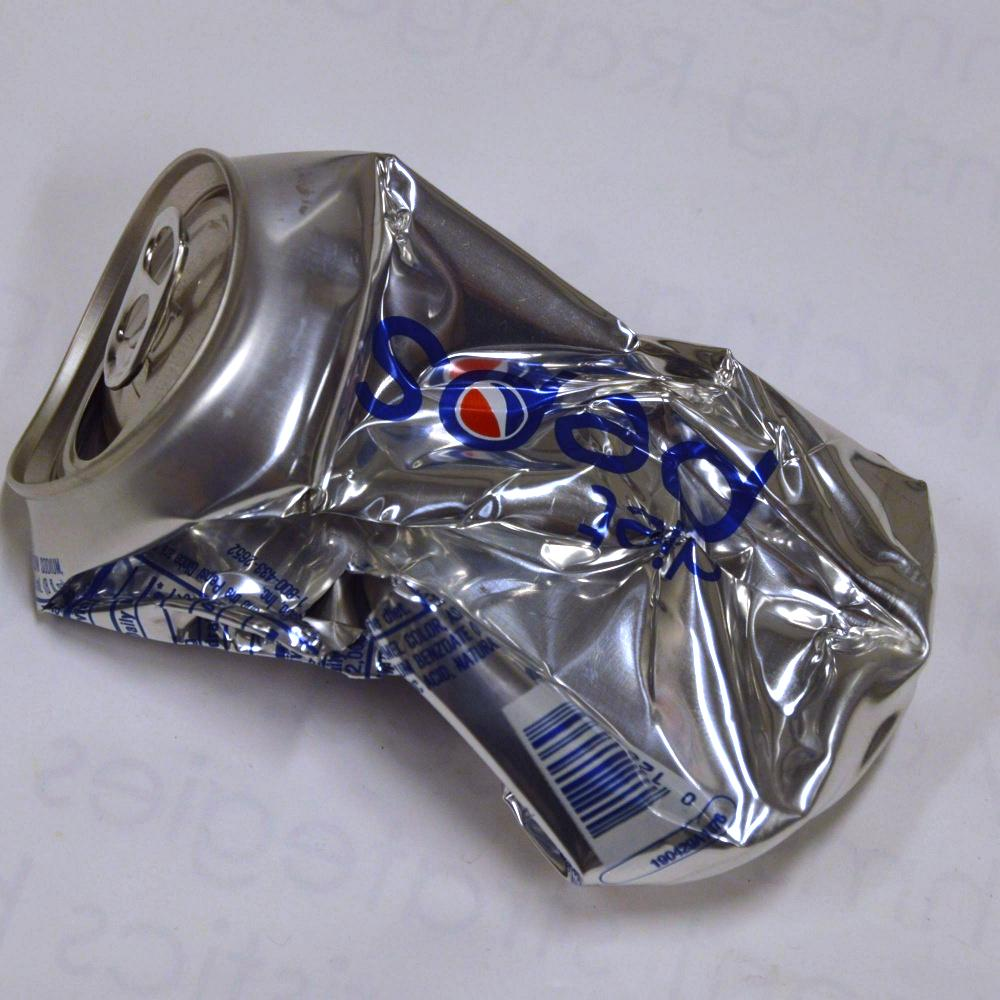Metal: (61, 137, 943, 920)
